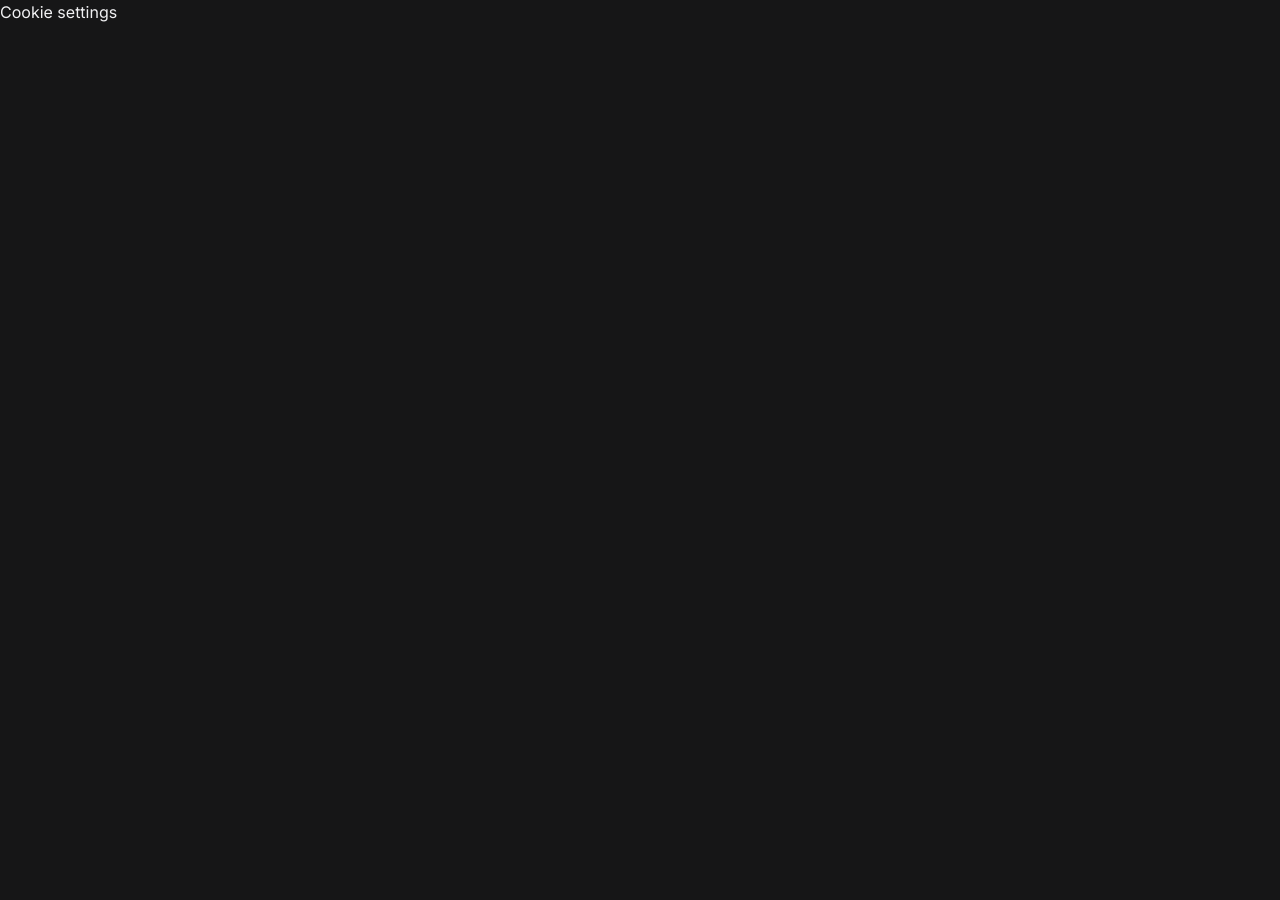
CookieConsent › re-opens the preferences from the cookie-settings event
The image size is (1280, 900).
Click the button with test id "cookie-settings-open". click: [59, 12]
box: [0,0,117,24]
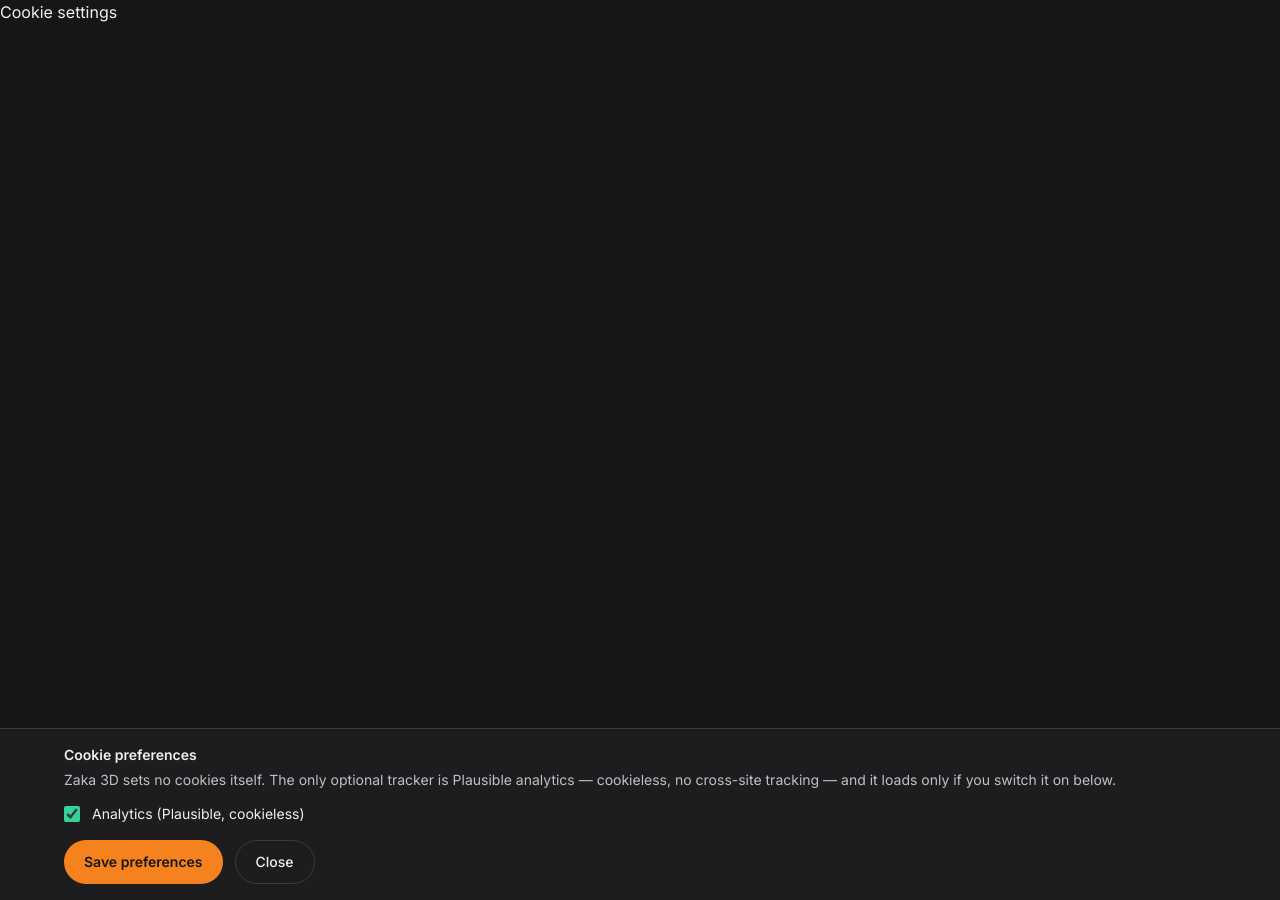
Result: the element with test id "cookie-consent-banner" is shown at [0,728,1279,899]
Result: the checkbox with test id "cookie-consent-analytics-toggle" is checked at [64,806,80,822]
